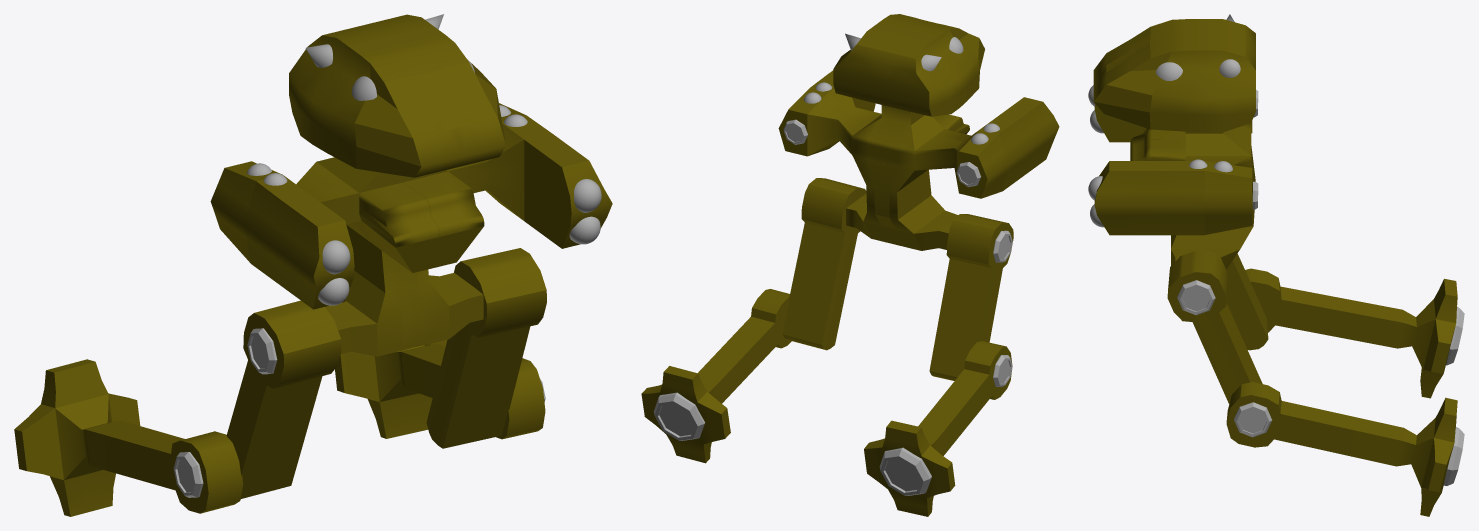
Rendered from Enemy_Ship_2.fbx.
3 renders of one model, left to right at view 1: azimuth 30°, elevation 25°; view 2: azimuth 150°, elevation 25°; view 3: azimuth 270°, elevation 25°, orthographic. The views are drawn at different scales.
Visible parts, largest first — view 1: polySurface211; view 2: polySurface211; view 3: polySurface211.
Boxes of the visible parts, left/top/right/bottom form: polySurface211: left=14, top=14, right=612, bottom=516; polySurface211: left=641, top=14, right=1059, bottom=516; polySurface211: left=1088, top=14, right=1464, bottom=516.
Size of the model in its own units: 1215 by 1437 by 1182.
